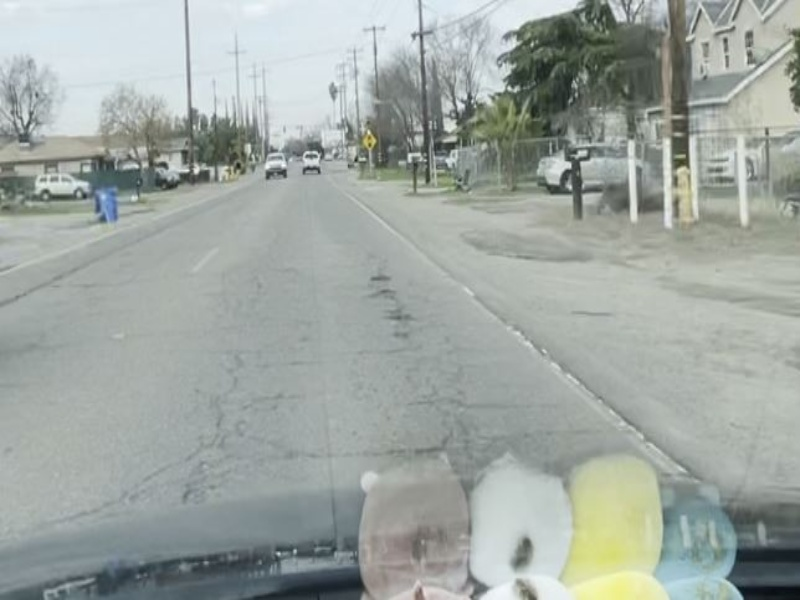pothole: (365, 269, 394, 286), (385, 310, 413, 322), (372, 289, 396, 299)
